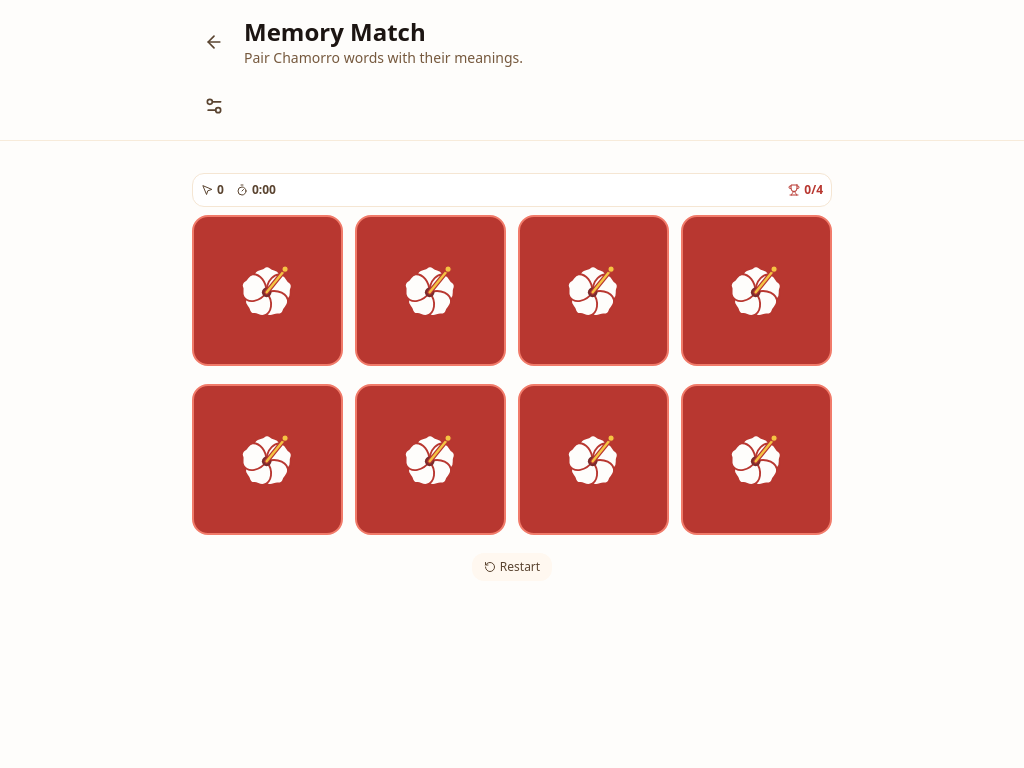
Test: contextual learning game navigation › memory guards its lesson exit and returns to /learning when confirmed
Click the 1st button named "Reveal memory card": (268, 290) top-left (192, 215), bottom-right (343, 366)
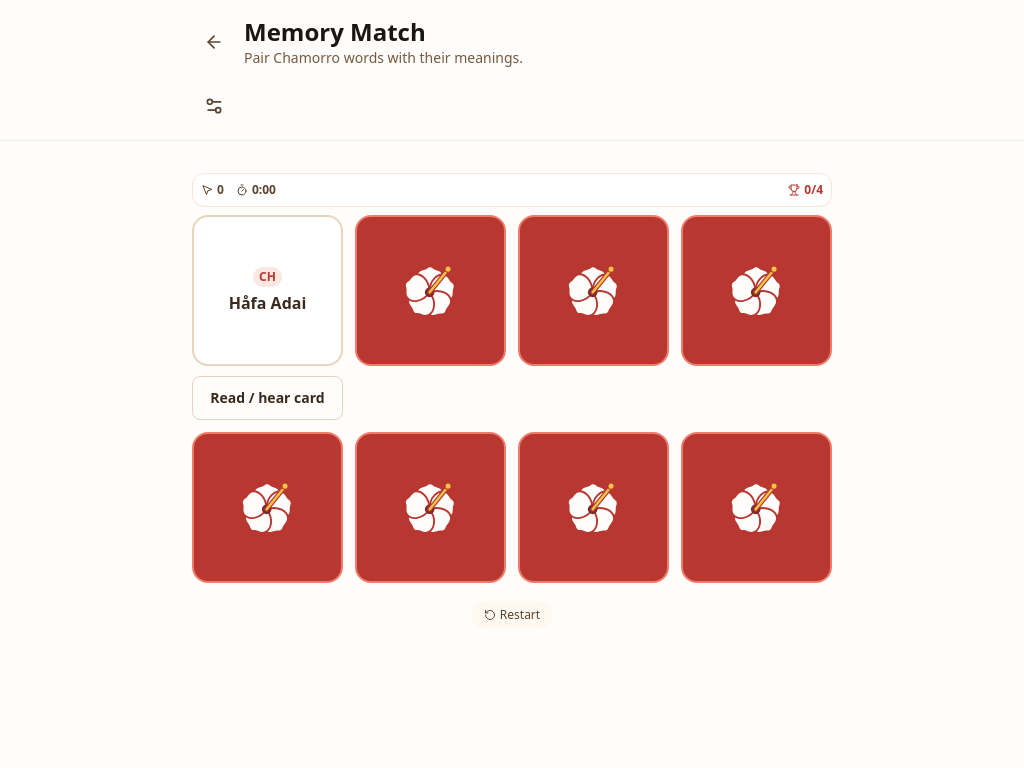
Click the 1st button named "Reveal memory card": (430, 290) top-left (355, 215), bottom-right (506, 366)
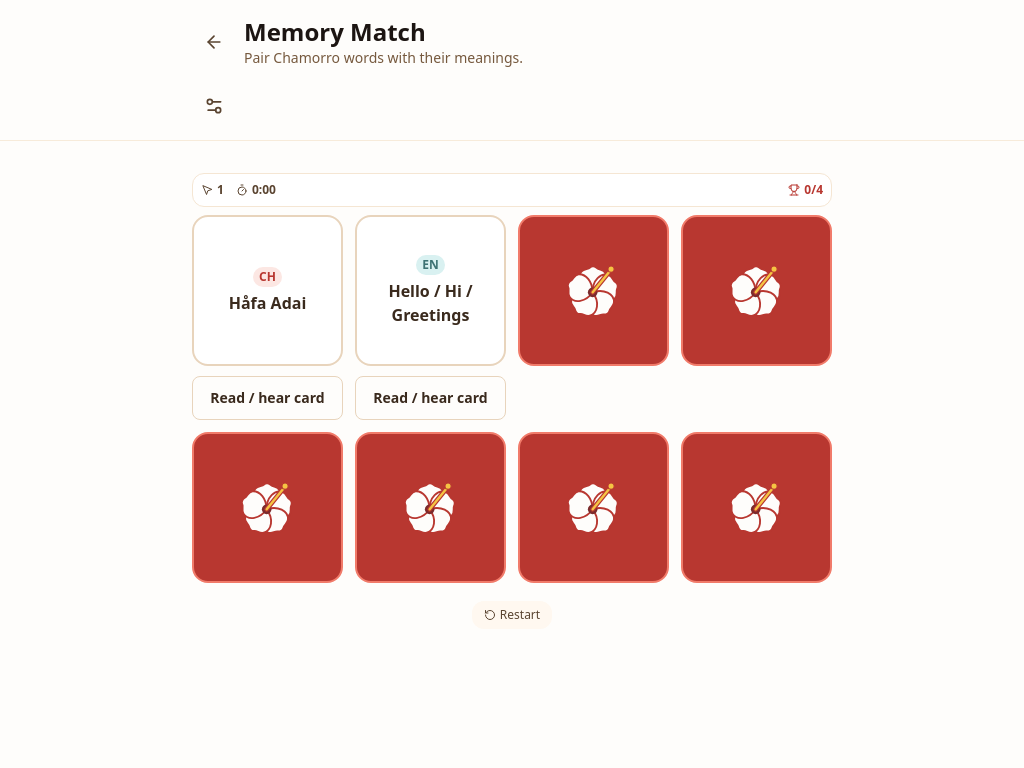
Click the button named "Back to learning": (214, 42) top-left (192, 20), bottom-right (236, 64)
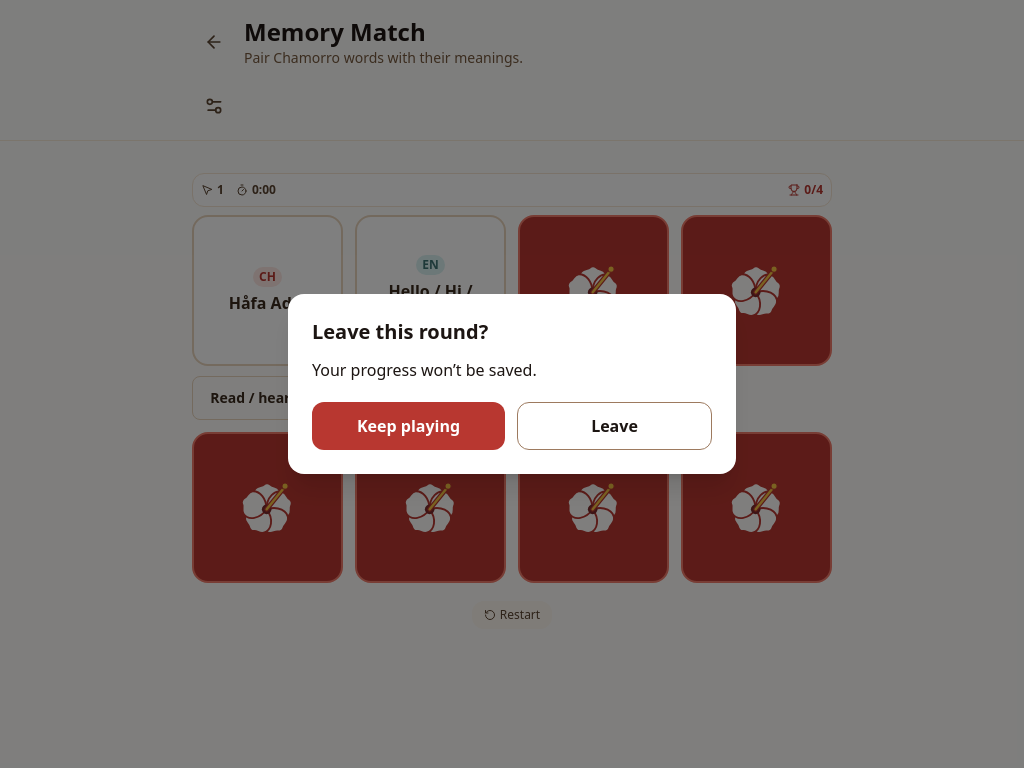
Expected: the dialog shows "Leave this round?", top-left (312, 318), bottom-right (488, 345)
Click the button "Keep playing": (408, 426) top-left (312, 402), bottom-right (505, 450)
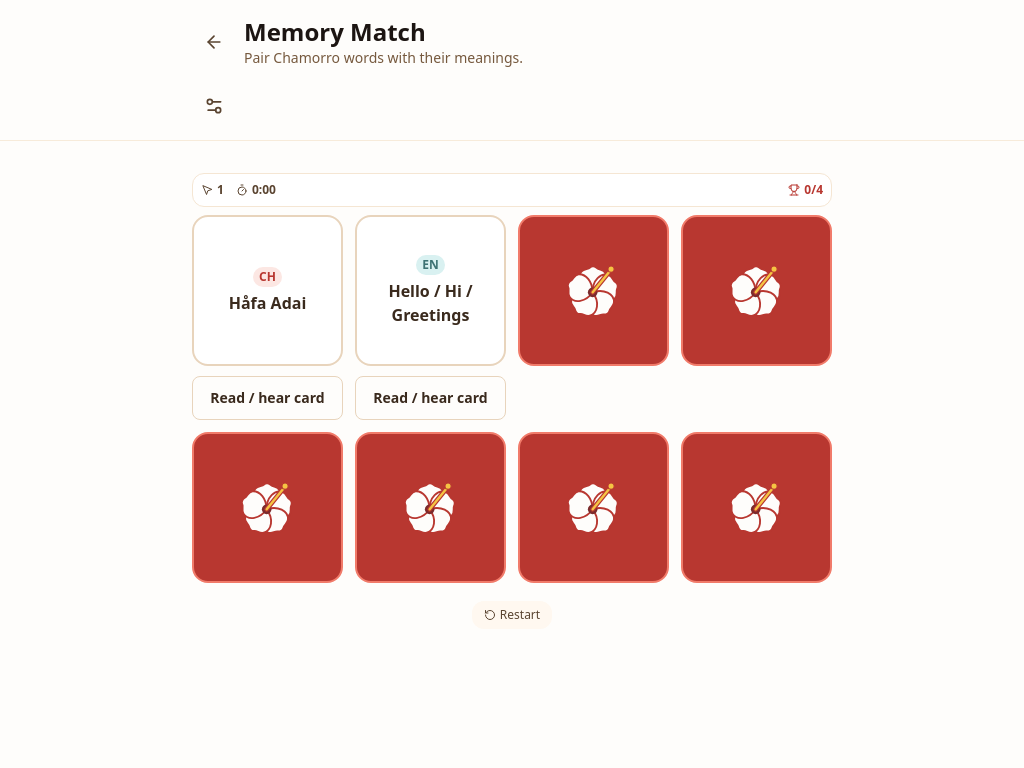
Click the button named "Back to learning": (214, 42) top-left (192, 20), bottom-right (236, 64)
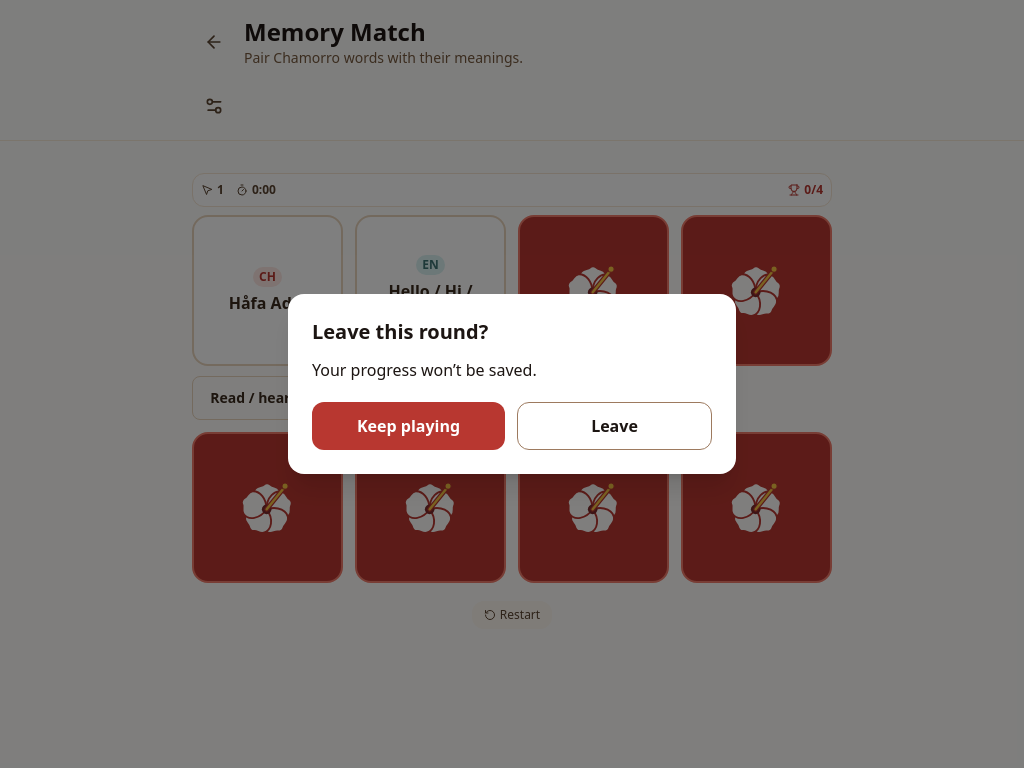
Click the button "Leave": (614, 426) top-left (517, 402), bottom-right (712, 450)
(page scrolled)
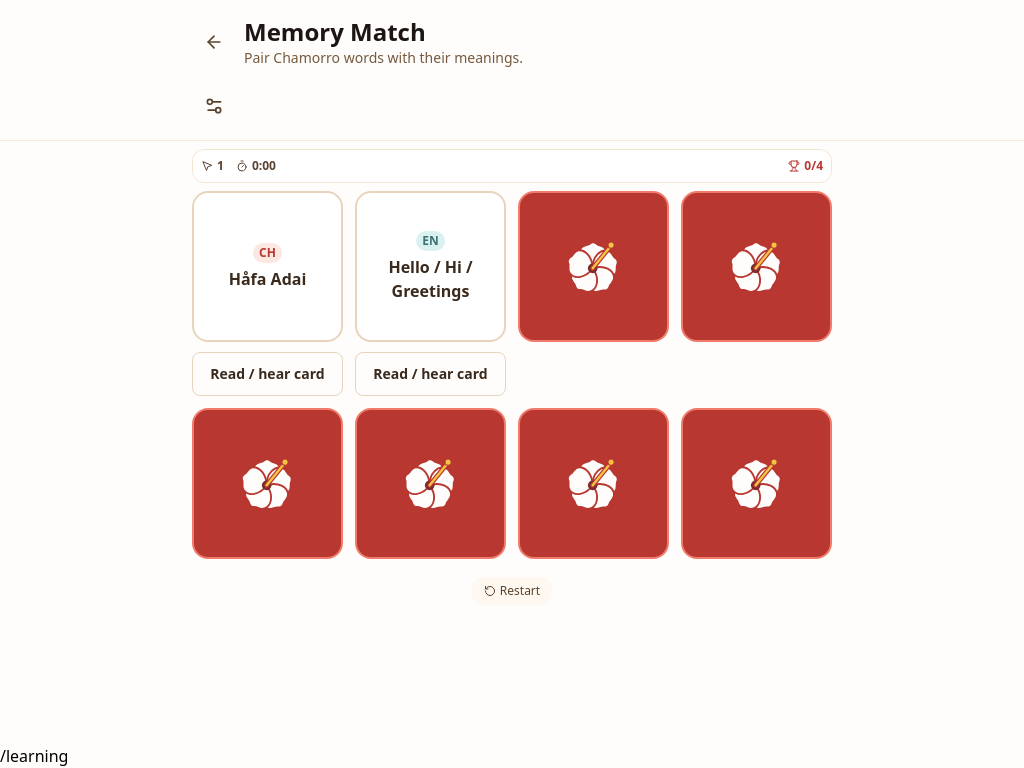
Expected: the text with test id "current-location" reads "/learning", top-left (0, 745), bottom-right (68, 767)
